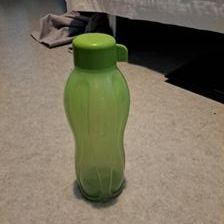bottle: (63, 30, 135, 200)
